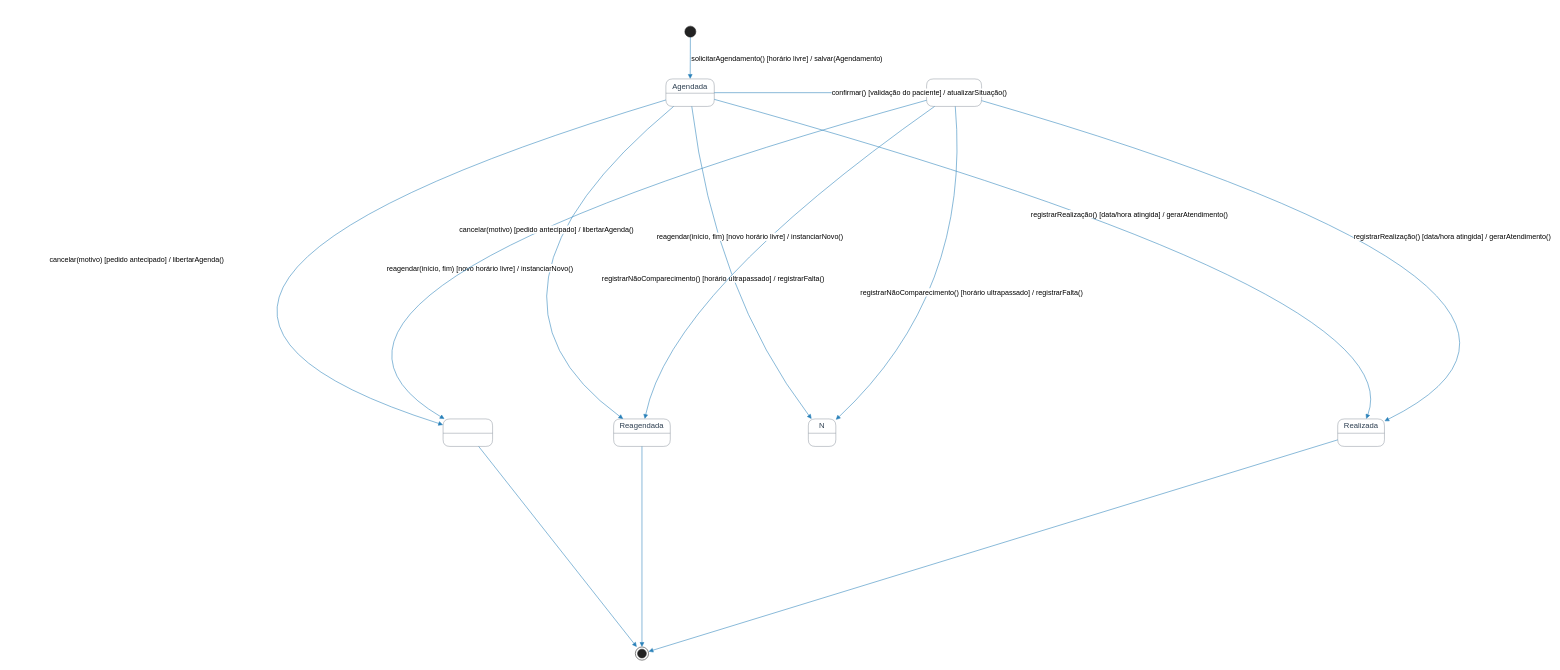
Image size: 1560x670. Some labels were removed from this diagram. The shapes that lost their labels are listed below. From the top down, each one's centre as x and y in pixels, then its label:
pixel 953 92: Confirmada
pixel 467 432: Cancelada
